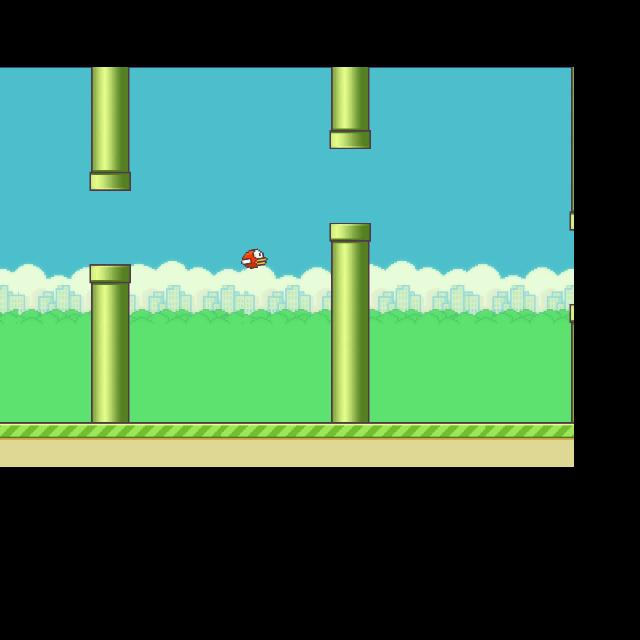bird: (240, 250, 263, 268)
pipedown: (330, 221, 372, 421), (86, 264, 132, 406)
pipeup: (87, 69, 131, 189), (327, 70, 371, 149)
